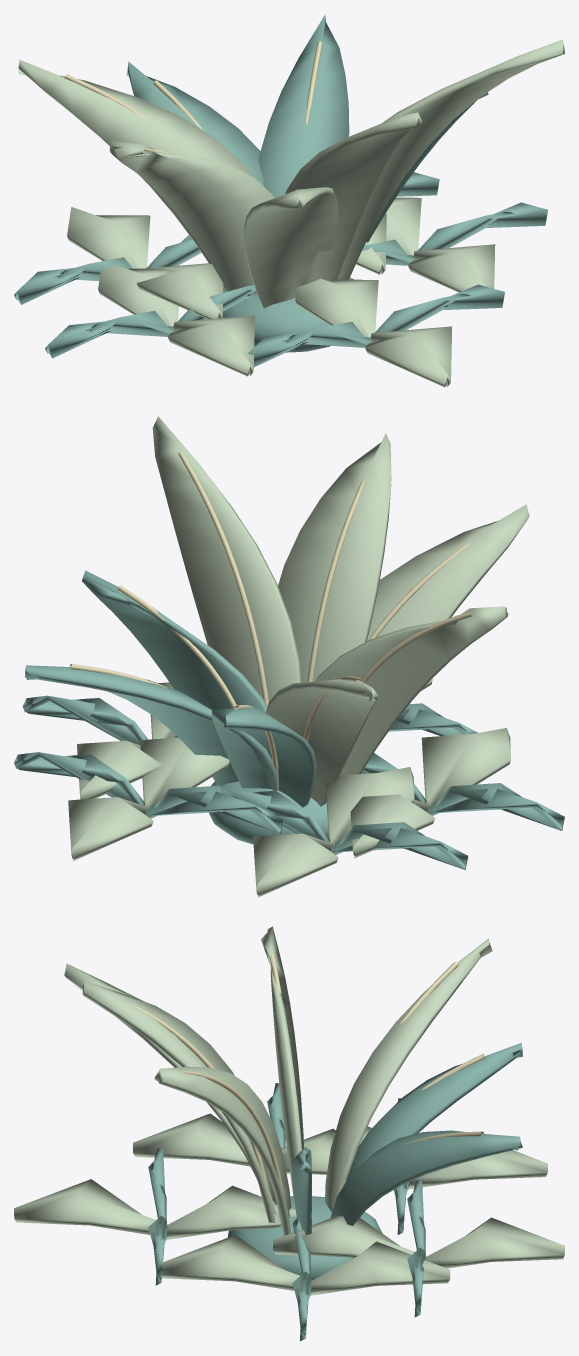
Rendered from bio_mist_leaf_05_far.glb.
3 views of the same model, one above another, from view 1: azimuth 30°, elevation 25°; view 2: azimuth 150°, elevation 25°; view 3: azimuth 270°, elevation 25° (orthographic). The views are drawn at different scales.
Parts seen in each view (by area): view 1: Cupped condensate leaf.004, Cupped condensate leaf.003, Cupped condensate leaf.007, Cupped condensate leaf.001, Cupped condensate leaf.002, Cupped condensate leaf.005, Low buttress leaf.009, Low buttress leaf.005, Low buttress leaf.017, Low buttress leaf.001, Low buttress leaf.008, Cupped condensate leaf.006 (+7 smaller); view 2: Cupped condensate leaf.005, Cupped condensate leaf.002, Cupped condensate leaf.004, Cupped condensate leaf.007, Cupped condensate leaf, Low buttress leaf.017, Low buttress leaf.013, Low buttress leaf.005, Cupped condensate leaf.001, Cupped condensate leaf.003, Cupped condensate leaf.006, Low buttress leaf.012 (+11 smaller); view 3: Low buttress leaf.001, Low buttress leaf.009, Cupped condensate leaf.001, Low buttress leaf.013, Cupped condensate leaf.003, Cupped condensate leaf.006, Cupped condensate leaf.002, Cupped condensate leaf.005, Cupped condensate leaf.004, Low buttress leaf.005, Low buttress leaf.017, Root rosette (+8 smaller).
Boxes of the visible parts, <box> form: Cupped condensate leaf.004: <box>109,141,274,299</box>; Cupped condensate leaf.003: <box>258,14,349,197</box>; Cupped condensate leaf.007: <box>243,187,338,308</box>; Cupped condensate leaf.001: <box>18,59,252,290</box>; Cupped condensate leaf.002: <box>285,112,421,285</box>; Cupped condensate leaf.005: <box>337,39,564,279</box>; Low buttress leaf.009: <box>295,278,452,387</box>; Low buttress leaf.005: <box>67,207,223,319</box>; Low buttress leaf.017: <box>98,260,254,376</box>; Low buttress leaf.001: <box>385,197,495,292</box>; Low buttress leaf.008: <box>248,284,504,367</box>; Cupped condensate leaf.006: <box>126,61,263,186</box>; Cupped condensate leaf.005: <box>152,416,301,701</box>; Cupped condensate leaf.002: <box>278,433,391,682</box>; Cupped condensate leaf.004: <box>315,606,508,775</box>; Cupped condensate leaf.007: <box>367,504,529,640</box>; Cupped condensate leaf: <box>82,570,267,712</box>; Low buttress leaf.017: <box>350,728,510,858</box>; Low buttress leaf.013: <box>68,737,229,860</box>; Low buttress leaf.005: <box>253,767,414,897</box>; Cupped condensate leaf.001: <box>266,679,378,806</box>; Cupped condensate leaf.003: <box>25,665,277,790</box>; Cupped condensate leaf.006: <box>212,707,316,807</box>; Low buttress leaf.012: <box>14,752,283,833</box>; Low buttress leaf.001: <box>162,1235,450,1296</box>; Low buttress leaf.009: <box>14,1179,296,1240</box>; Cupped condensate leaf.001: <box>325,938,492,1212</box>; Low buttress leaf.013: <box>273,1215,564,1268</box>; Cupped condensate leaf.003: <box>330,1130,522,1225</box>; Cupped condensate leaf.006: <box>346,1043,522,1180</box>; Cupped condensate leaf.002: <box>82,981,275,1228</box>; Cupped condensate leaf.005: <box>154,1067,291,1235</box>; Cupped condensate leaf.004: <box>261,926,303,1198</box>; Low buttress leaf.005: <box>281,1128,547,1190</box>; Low buttress leaf.017: <box>133,1113,371,1173</box>; Root rosette: <box>227,1196,382,1280</box>.
Bounding box in the file's own units: 2.22 × 1.25 × 2.09.
